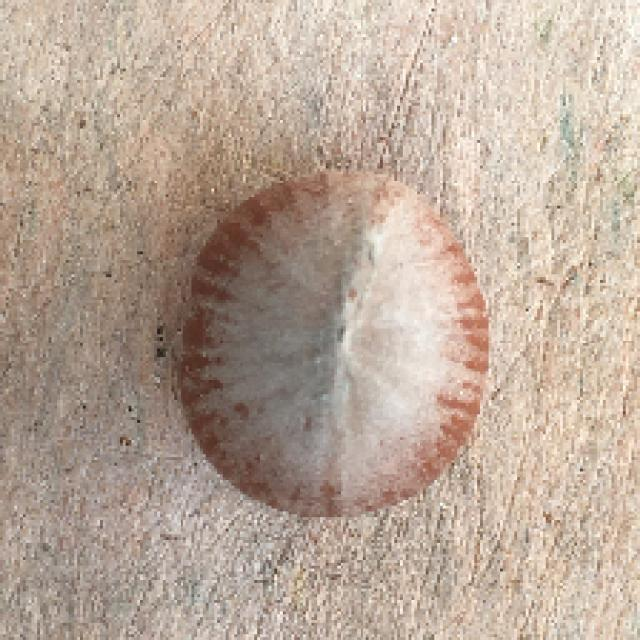QualityHazelnut: (178, 165, 493, 517)
